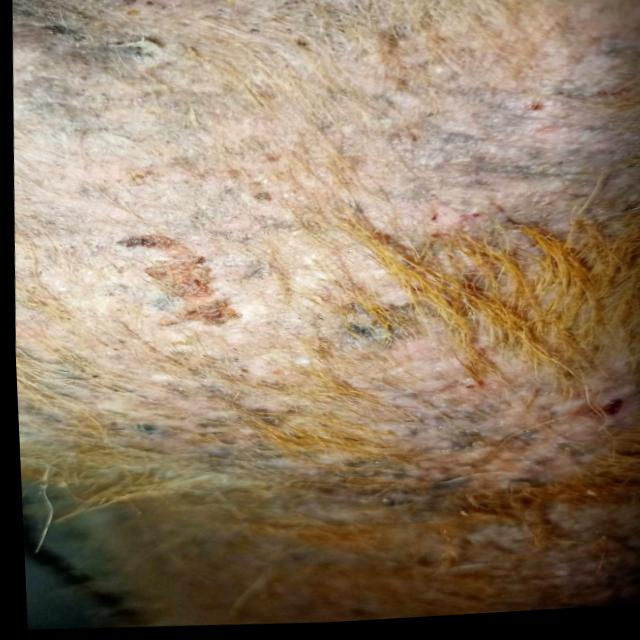demodicosis: (47, 171, 347, 373), (29, 0, 353, 159), (421, 52, 591, 225), (398, 350, 591, 490)
